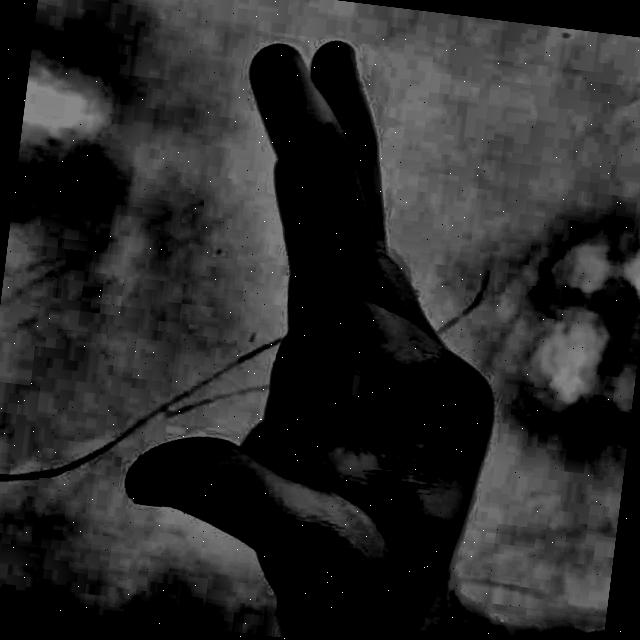Uo: (54, 0, 585, 640)
